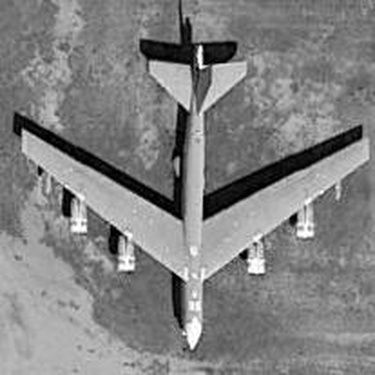airplane: (11, 26, 372, 370)
